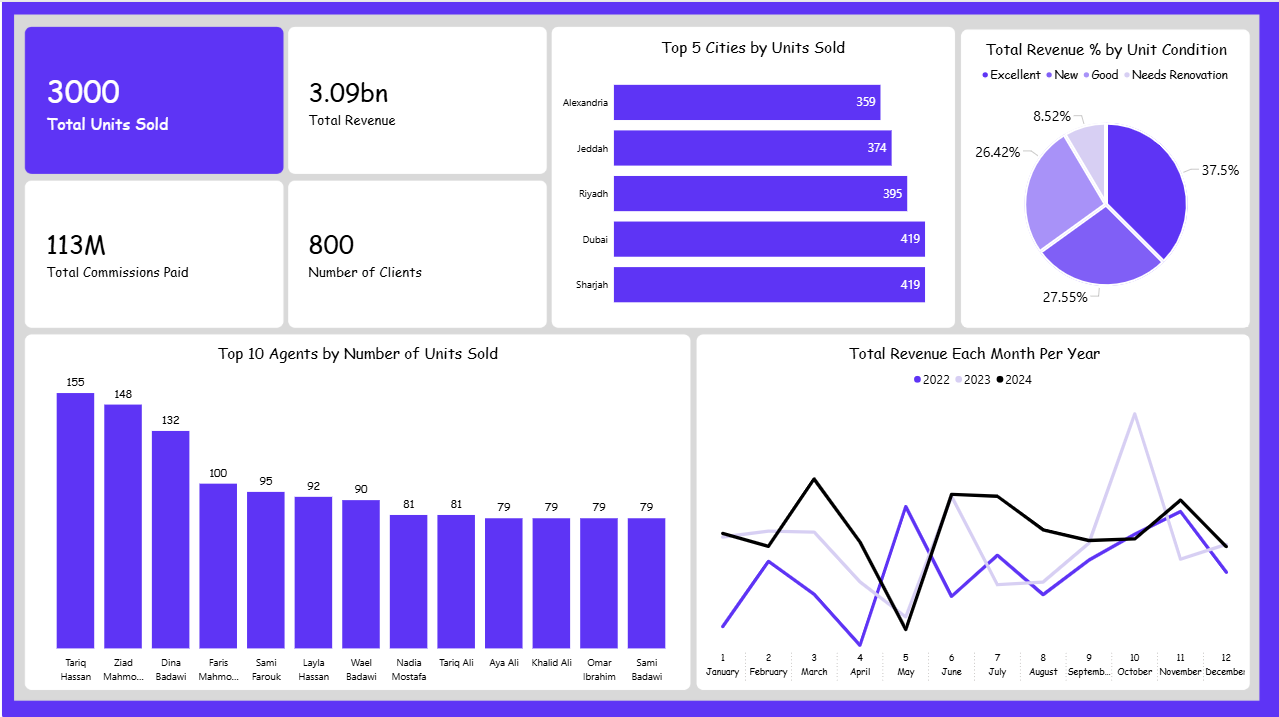

The dashboard page shown, as its layout file describes it:
{"tool":"powerbi","page":{"name":"Page 1","canvas":[1977,1080],"ordinal":0},"visuals":[{"type":"cardVisual","fields":{"Data":["Count(FACT_Transactions.TransactionKey)"]},"box":[66.7,41.7,380,215],"z":0},{"type":"cardVisual","fields":{"Data":["Sum(FACT_Transactions.FinalPriceEGP)"]},"box":[460,41.7,380,215],"z":1},{"type":"cardVisual","fields":{"Data":["Sum(FACT_Transactions.CommissionEGP)"]},"box":[66.7,270,380,215],"z":2},{"type":"cardVisual","fields":{"Data":["CountNonNull(DIM_Client.ClientKey)"]},"box":[460,270,380,215],"z":3},{"type":"clusteredColumnChart","title":"Top 10 Agents by Number of Units Sold","fields":{"Y":["CountNonNull(FACT_Transactions.TransactionKey)"],"Category":["DIM_Agent.AgentName"]},"box":[66.7,501.7,993.3,528.3],"z":4},{"type":"pieChart","title":"Total Revenue % by Unit Condition","fields":{"Category":["DIM_Property.Condition"],"Y":["Sum(FACT_Transactions.FinalPriceEGP)"]},"box":[1473.3,45,426.7,443.3],"z":5},{"type":"lineChart","title":"Total Revenue Each Month Per Year","fields":{"Category":["DIM_Date.MonthName","DIM_Date.Month"],"Y":["Sum(FACT_Transactions.FinalPriceEGP)"],"Series":["DIM_Date.Year"]},"box":[1078.3,501.7,821.7,528.3],"z":6},{"type":"clusteredBarChart","title":"Top 5 Cities by Units Sold","fields":{"Category":["DIM_Property.City"],"Y":["CountNonNull(FACT_Transactions.TransactionKey)"]},"box":[858.3,41.7,598.3,443.3],"z":7}]}

Visuals, with their boxes in screenshot pixels (x1, y1, x2, y2), scaled from the page's 1977x1080 canvas onto the 1279x717 screenshot:
cardVisual - Count(FACT_Transactions.TransactionKey): (43,28,289,170)
cardVisual - Sum(FACT_Transactions.FinalPriceEGP): (298,28,543,170)
cardVisual - Sum(FACT_Transactions.CommissionEGP): (43,179,289,322)
cardVisual - CountNonNull(DIM_Client.ClientKey): (298,179,543,322)
"Top 10 Agents by Number of Units Sold" clusteredColumnChart: (43,333,686,684)
"Total Revenue % by Unit Condition" pieChart: (953,30,1229,324)
"Total Revenue Each Month Per Year" lineChart: (698,333,1229,684)
"Top 5 Cities by Units Sold" clusteredBarChart: (555,28,942,322)
